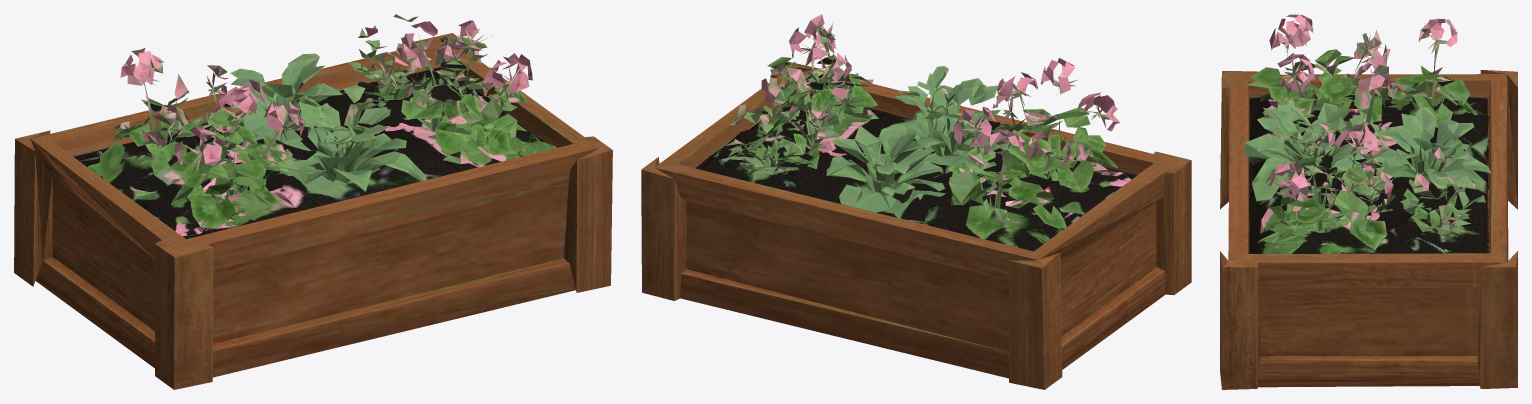
Rendered from planter.glb.
3 renders of one model, left to right at view 1: azimuth 30°, elevation 25°; view 2: azimuth 150°, elevation 25°; view 3: azimuth 270°, elevation 25°, orthographic. The views are drawn at different scales.
Parts seen in each view (by area): view 1: Mesh_0; view 2: Mesh_0; view 3: Mesh_0.
Boxes of the visible parts, x1,y1,x2,y2 form: Mesh_0: (14,14,612,389); Mesh_0: (641,14,1191,389); Mesh_0: (1220,14,1517,389).
Bounding box in the file's own units: 1.9 × 1.03 × 1.22.
Materials: 1 (1 with a texture image).
